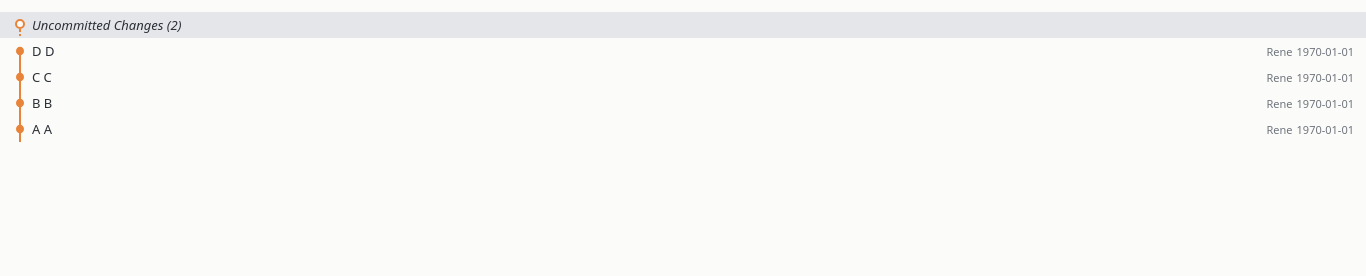
Scenario: CommitGraph › shift-clicking a second commit and right-clicking within the range shows the multi-select menu
This screenshot has width=1366, height=276.
Click the option "C C Rene 1970-01-01" at (1325,77), box [0, 64, 1365, 90]
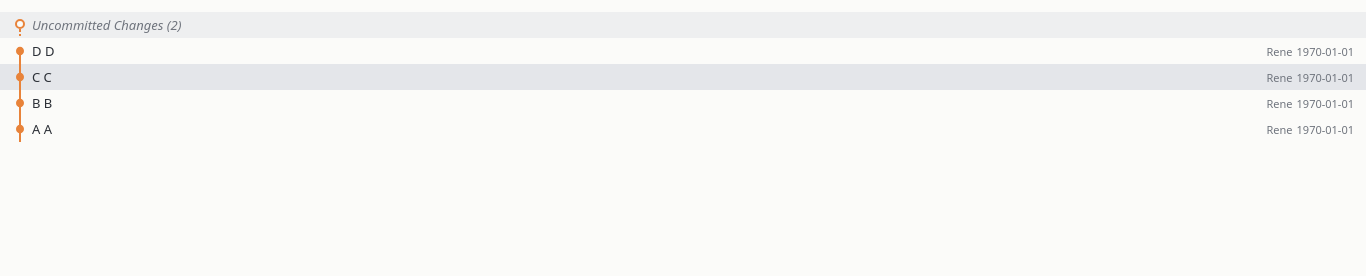
Click the option "B B Rene 1970-01-01" at (1325,103), box [0, 90, 1365, 116]
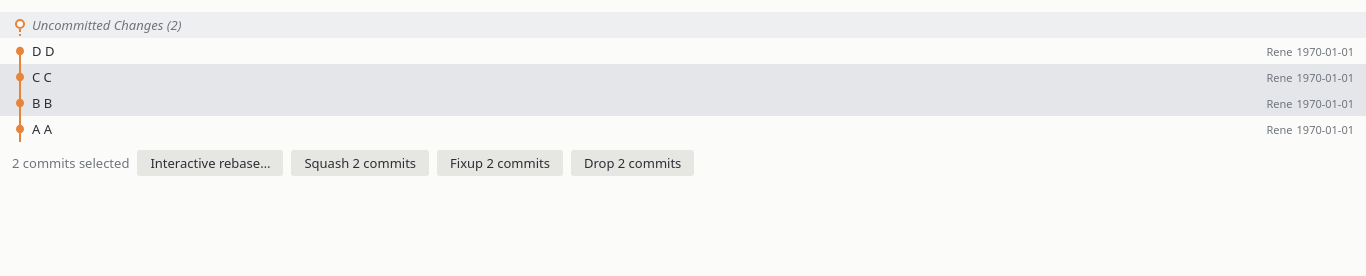
Right-click the option "B B Rene 1970-01-01" at (1325,103), box [0, 90, 1365, 116]
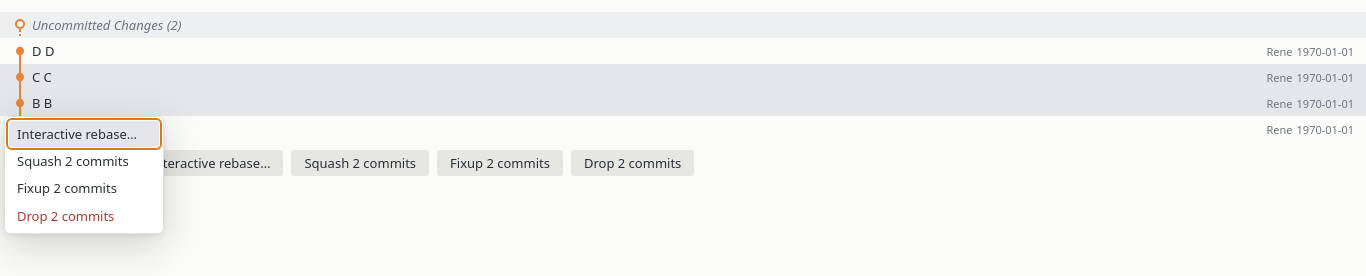
Expected: the menu item "Squash 2 commits" is enabled, [9, 148, 159, 174]
Expected: the menu item "Interactive rebase…" is enabled, [9, 121, 159, 147]
